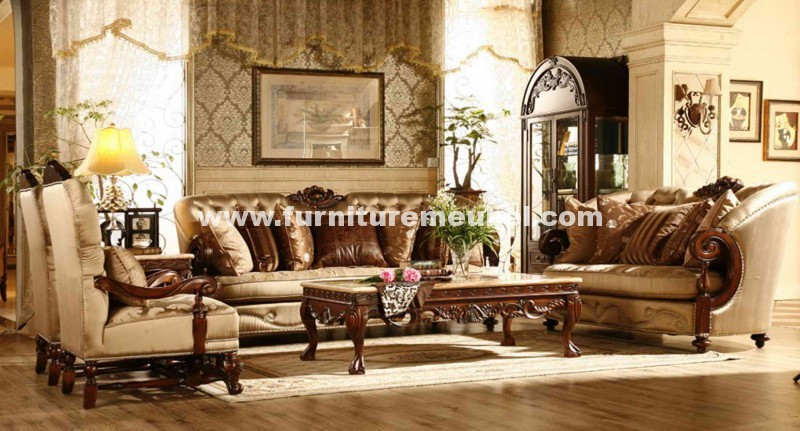Carving Table: (295, 278, 577, 386)
